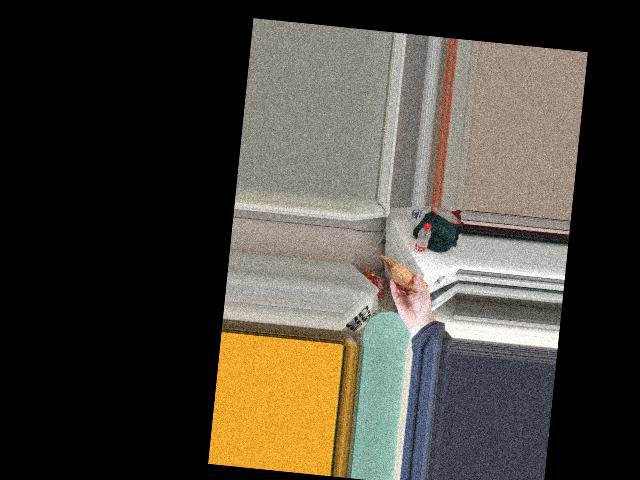sweet_potato: (390, 262, 425, 297)
